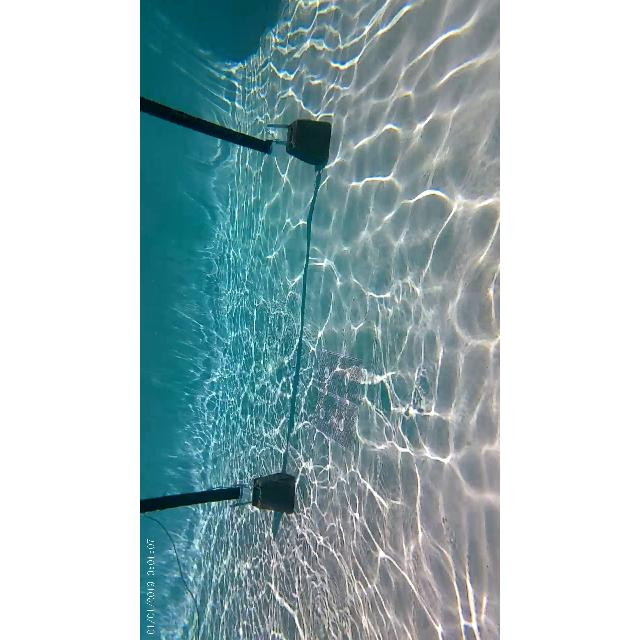prequal gate: (140, 98, 286, 516)
prequal gate leg l: (141, 484, 291, 510)
prequal gate leg r: (142, 90, 330, 166)
